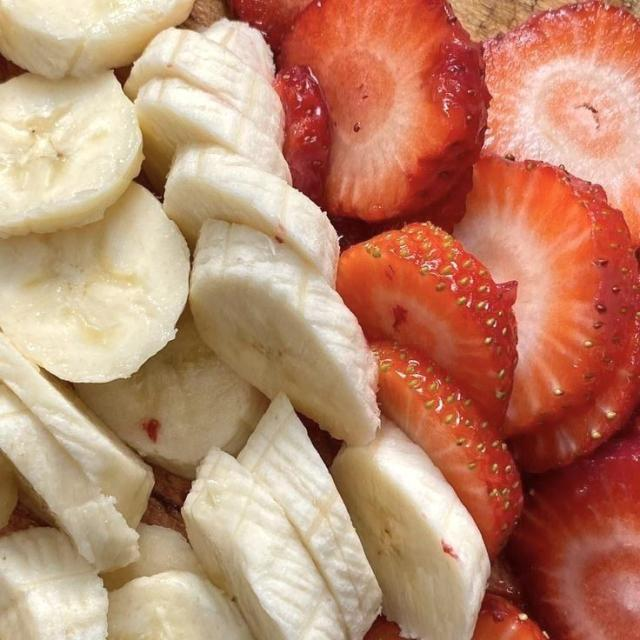banana slice: (190, 221, 379, 444), (0, 184, 189, 381), (238, 394, 381, 639), (332, 420, 489, 639), (76, 311, 267, 478), (183, 450, 347, 639), (0, 334, 153, 527), (0, 385, 138, 571), (165, 147, 339, 285), (0, 72, 142, 237), (125, 29, 284, 146), (135, 78, 291, 189), (0, 0, 193, 79), (0, 528, 107, 639), (108, 571, 252, 639), (102, 524, 204, 590), (204, 19, 274, 82), (181, 0, 229, 33), (0, 453, 18, 529)
strawberry sliced: (455, 157, 636, 434), (278, 0, 487, 222), (484, 0, 639, 244), (337, 223, 517, 430), (372, 341, 522, 560), (508, 435, 639, 639), (511, 318, 639, 472), (274, 65, 330, 205)
